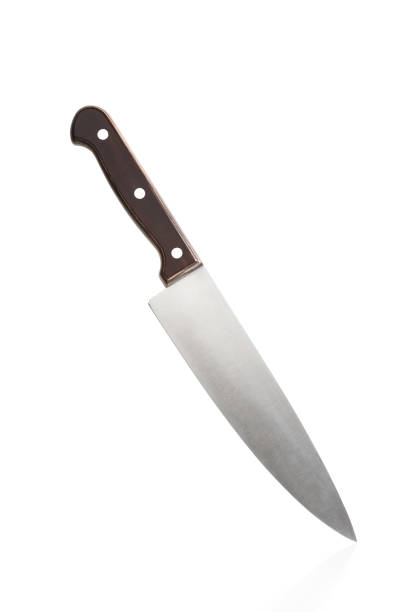knife: (67, 104, 361, 544)
